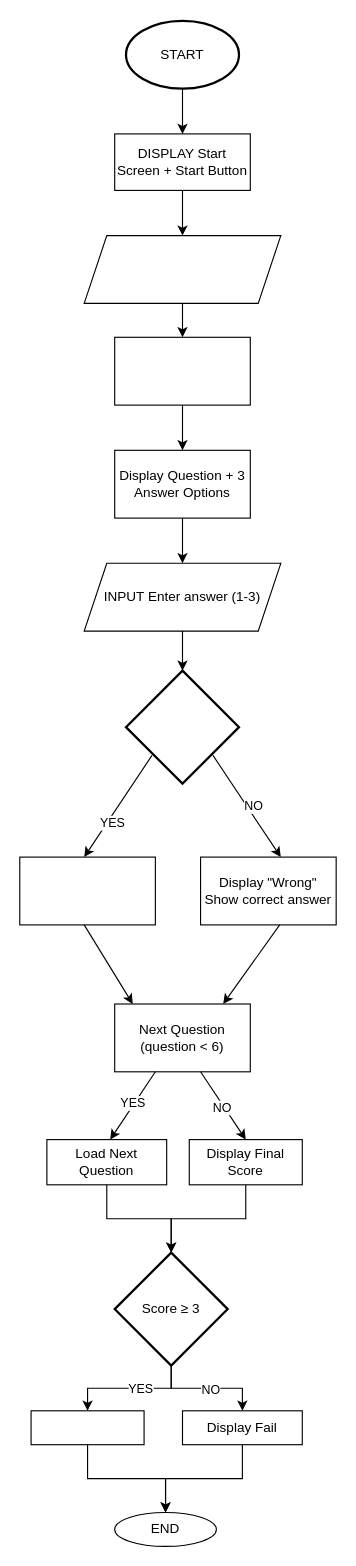
The diagram is 356 pixels wide and 1566 high, and some of its shapes have lost their labels. The centre of each missing label's shape, as x and y in pixels:
Display Pass: [87,1427]
Increase Score Display "Correct": [87,890]
INPUT User Clicks Start: [182,268]
Is Answer Correct?: [182,726]
Set Score = 0 Set Question = 0: [182,370]
